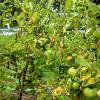Tomato Septoria leaf spot: (75, 56, 93, 69), (47, 25, 55, 41)
